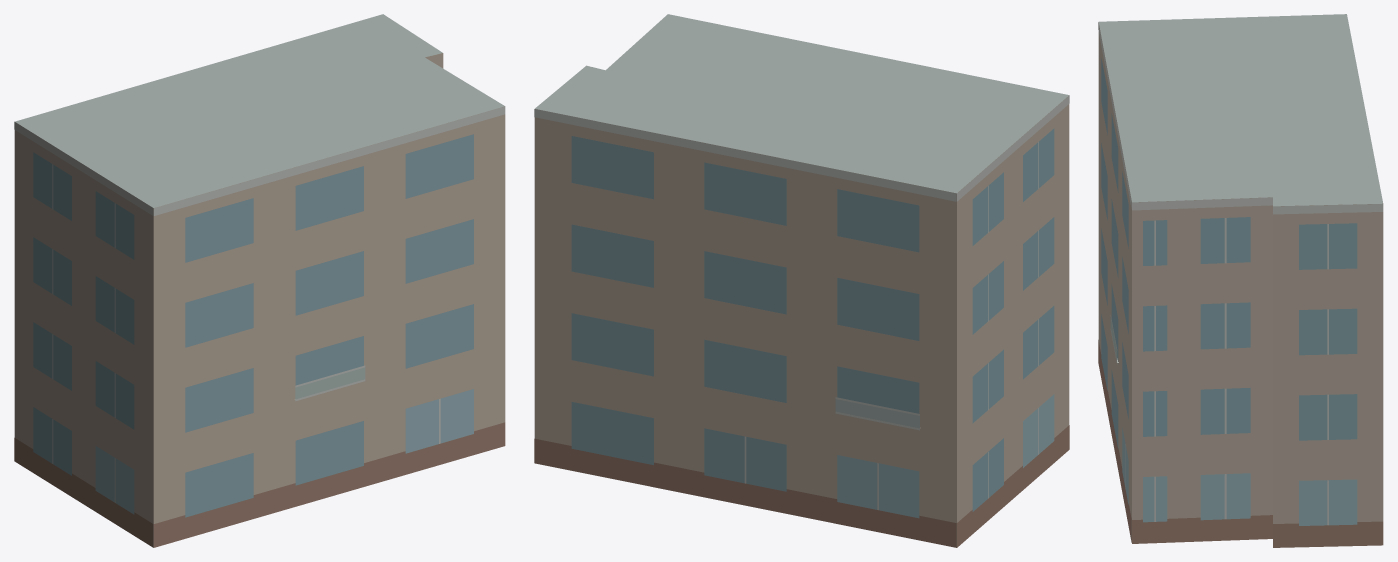
The model's file is survey-upis-33036044.glb.
3 renders of one model, left to right at view 1: azimuth 30°, elevation 25°; view 2: azimuth 150°, elevation 25°; view 3: azimuth 270°, elevation 25°, orthographic. The views are drawn at different scales.
Visible parts, largest first — view 1: survey-upis-33036044.tmp; view 2: survey-upis-33036044.tmp; view 3: survey-upis-33036044.tmp.
Part boxes in pixels (x1,y1,x2,y2): survey-upis-33036044.tmp: [14, 14, 505, 547]; survey-upis-33036044.tmp: [534, 14, 1069, 547]; survey-upis-33036044.tmp: [1098, 14, 1383, 547].
Bounding box in the file's own units: 12.38 × 10.25 × 7.76.
